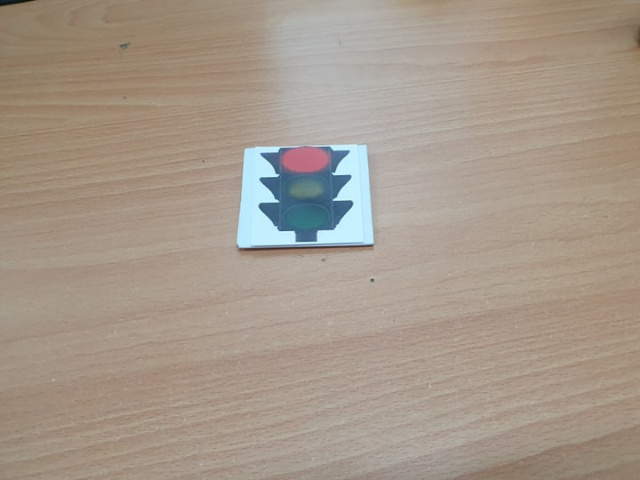Red: (257, 147, 355, 242)
